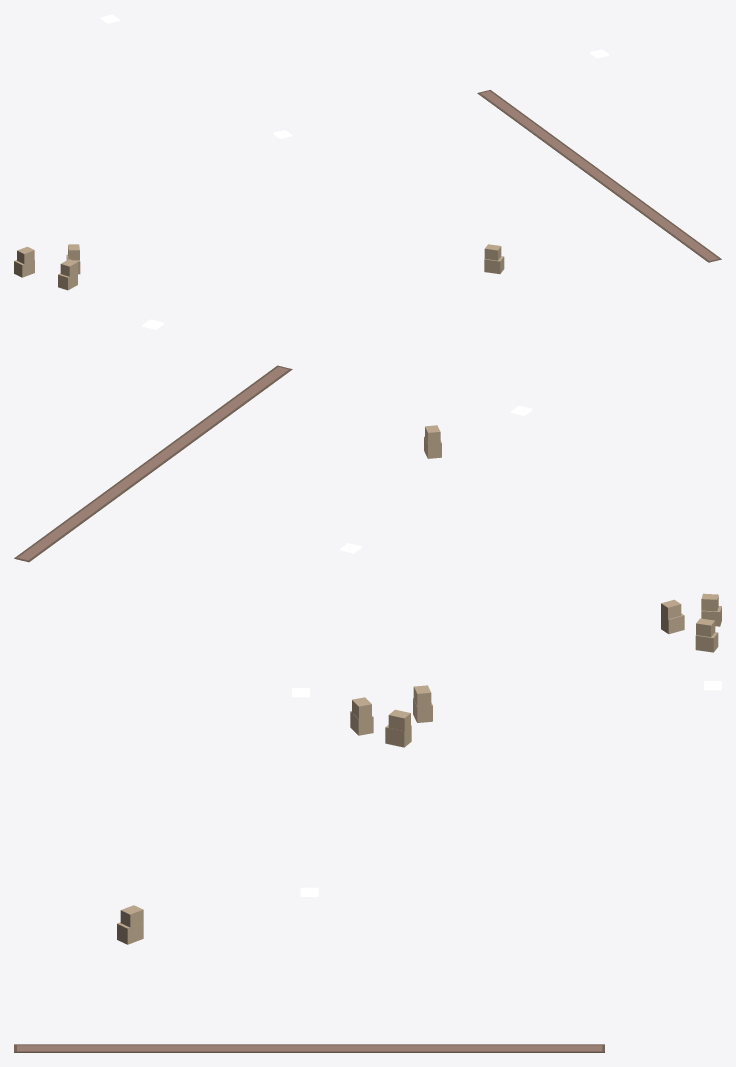
File: fine-s0.glb
3 views of the same model, one above another, from view 1: azimuth 30°, elevation 25°; view 2: azimuth 150°, elevation 25°; view 3: azimuth 270°, elevation 25° (orthographic). The views are drawn at different scales.
Parts seen in each view (by area): view 1: soft-s0, cardboard-box.002, cardboard-box.000, crate.000; view 2: soft-s0, cardboard-box.000, cardboard-box.001, crate.000, cardboard-box.002; view 3: soft-s0, cardboard-box.002, cardboard-box.001, crate.000, cardboard-box.000.
Part boxes in pixels (x1=…): soft-s0: x1=477, y1=90, x2=721, y2=262; cardboard-box.002: x1=484, y1=244, x2=504, y2=274; cardboard-box.000: x1=14, y1=246, x2=34, y2=277; crate.000: x1=58, y1=259, x2=77, y2=290; soft-s0: x1=14, y1=365, x2=292, y2=562; cardboard-box.000: x1=695, y1=618, x2=718, y2=652; cardboard-box.001: x1=661, y1=599, x2=684, y2=633; crate.000: x1=701, y1=593, x2=721, y2=626; cardboard-box.002: x1=424, y1=425, x2=441, y2=458; soft-s0: x1=14, y1=1044, x2=604, y2=1052; cardboard-box.002: x1=117, y1=905, x2=143, y2=944; cardboard-box.001: x1=385, y1=709, x2=411, y2=747; crate.000: x1=350, y1=697, x2=373, y2=735; cardboard-box.000: x1=413, y1=685, x2=432, y2=722.
Size of the model in its own units: 22.51 by 4.86 by 19.81.
